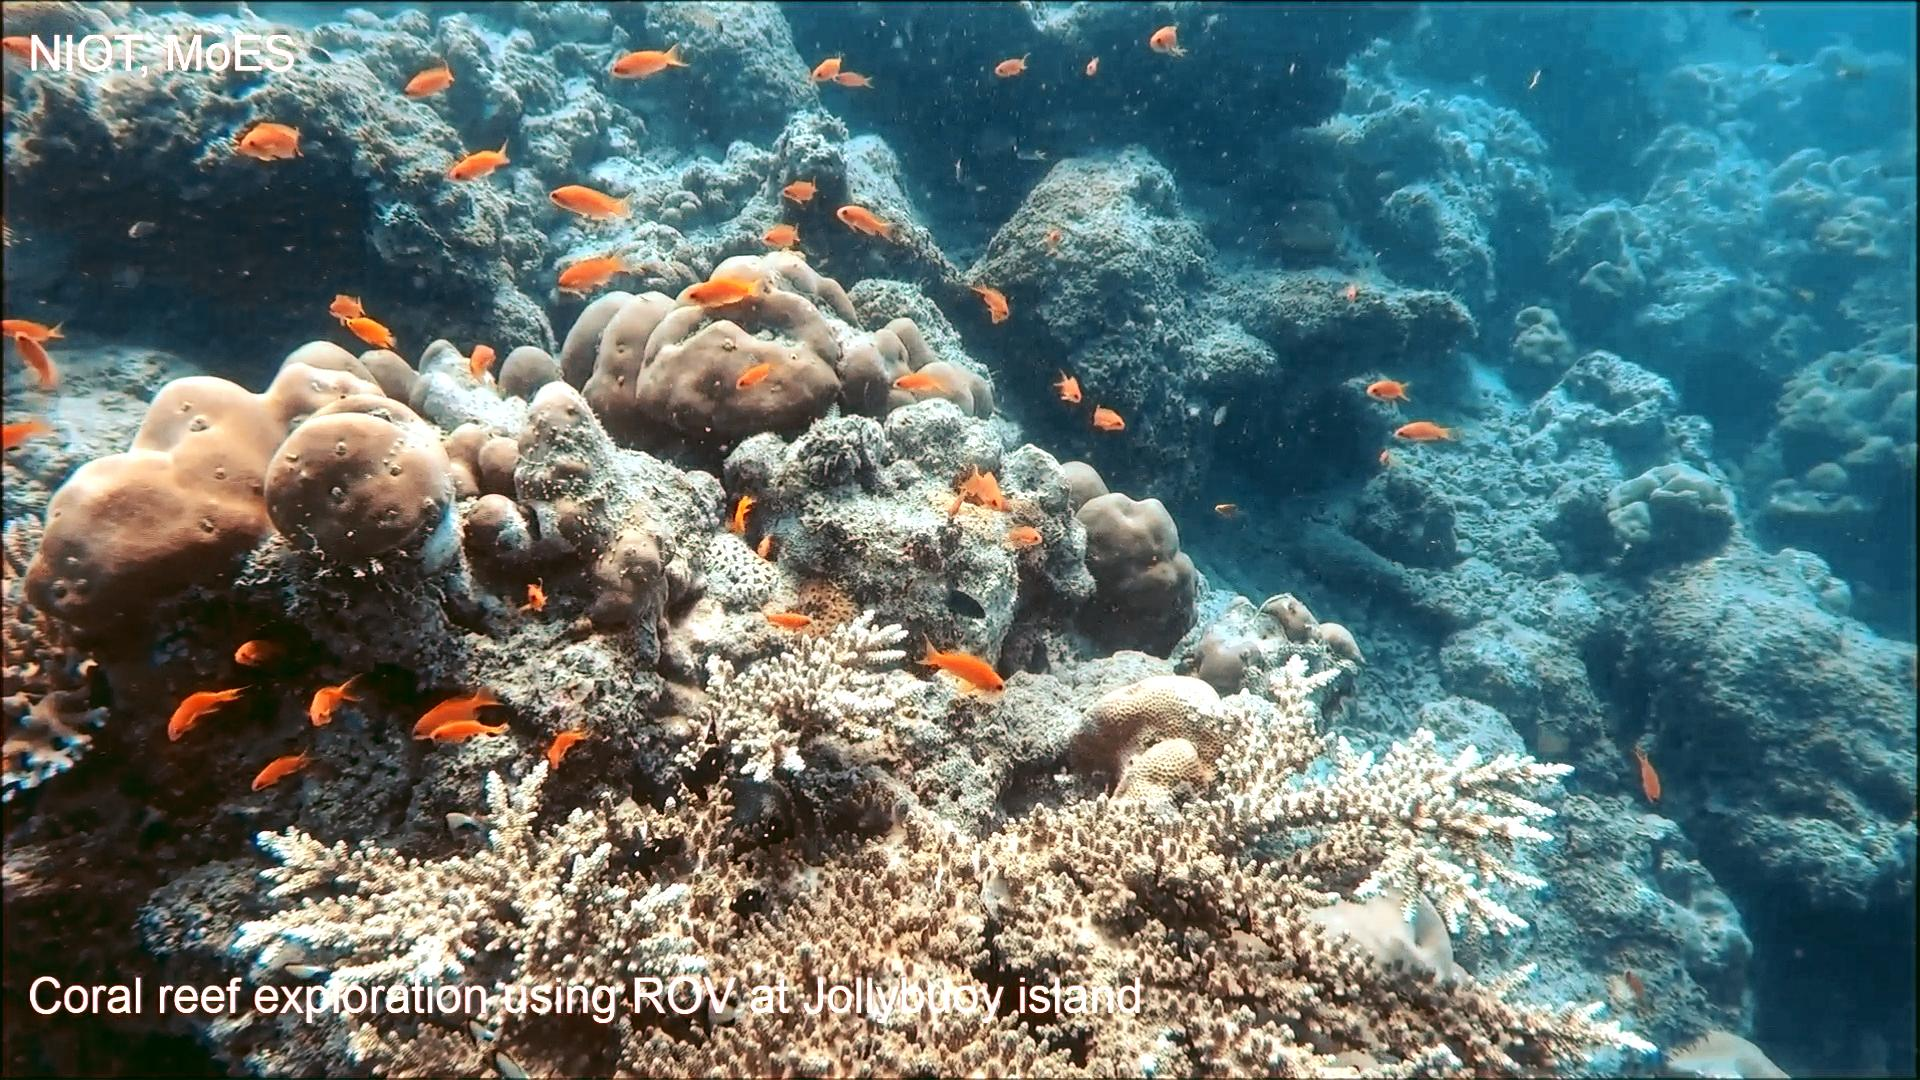Porites-Porites pukoensis: (24, 328, 459, 654), (542, 243, 1004, 447)
